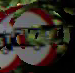Heavy Vehicles: (0, 8, 55, 71)
